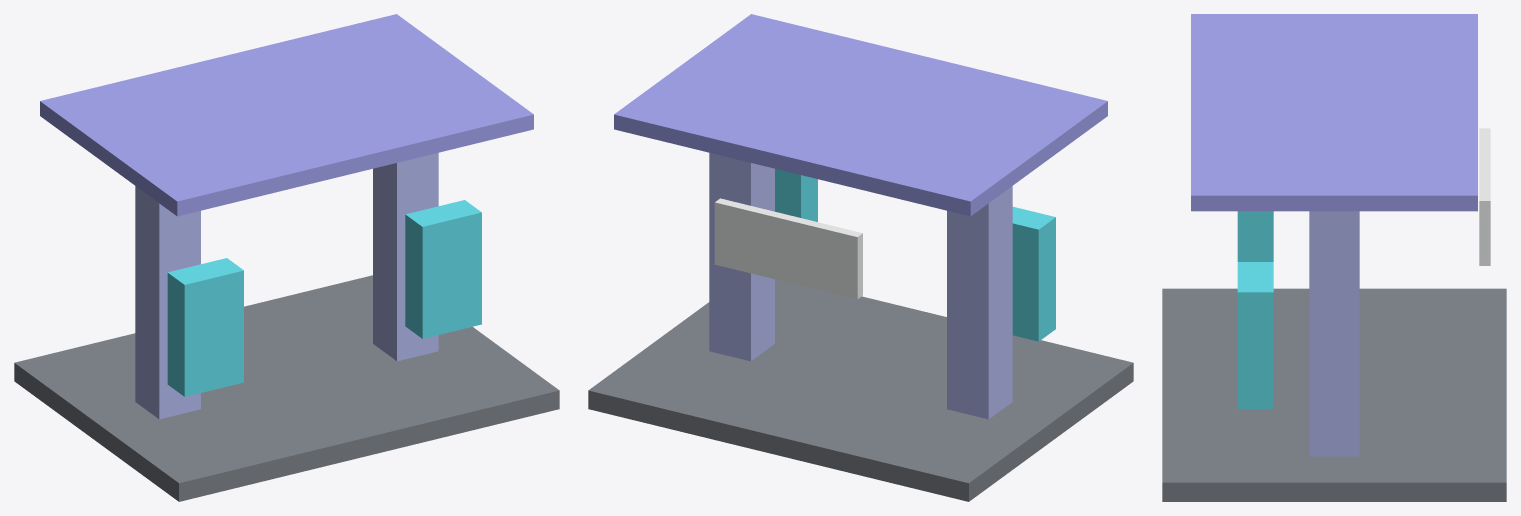
File: ev_charger.glb
3 renders of one model, left to right at view 1: azimuth 30°, elevation 25°; view 2: azimuth 150°, elevation 25°; view 3: azimuth 270°, elevation 25°, orthographic. The views are drawn at different scales.
Parts seen in each view (by area): view 1: pad, canopy, plug_2, plug, post, post_2; view 2: pad, canopy, post, sign, post_2, plug, plug_2; view 3: pad, canopy, post_2, plug_2, plug, sign.
Boxes of the visible parts, x1,y1,x2,y2 form: pad: (14, 275, 559, 501); canopy: (40, 14, 533, 216); plug_2: (405, 200, 481, 338); plug: (167, 258, 243, 396); post: (135, 186, 200, 419); post_2: (373, 153, 438, 361); pad: (588, 279, 1133, 501); canopy: (614, 14, 1107, 216); post: (947, 186, 1012, 419); sign: (714, 198, 862, 299); post_2: (709, 153, 774, 361); plug: (1012, 206, 1055, 341); plug_2: (775, 169, 817, 221); pad: (1162, 288, 1506, 501); canopy: (1191, 14, 1477, 211); post_2: (1309, 211, 1359, 456); plug_2: (1237, 262, 1273, 409); plug: (1237, 211, 1273, 261); sign: (1479, 128, 1490, 265).
Size of the model in its own units: 3.2 by 2.31 by 2.4.
